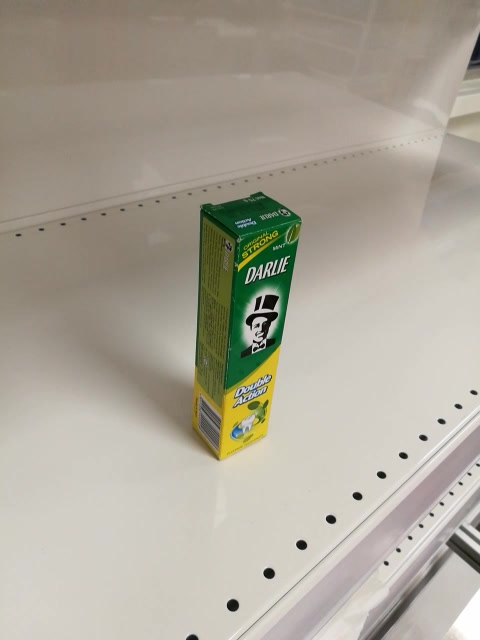toothpaste: (186, 191, 304, 460)
